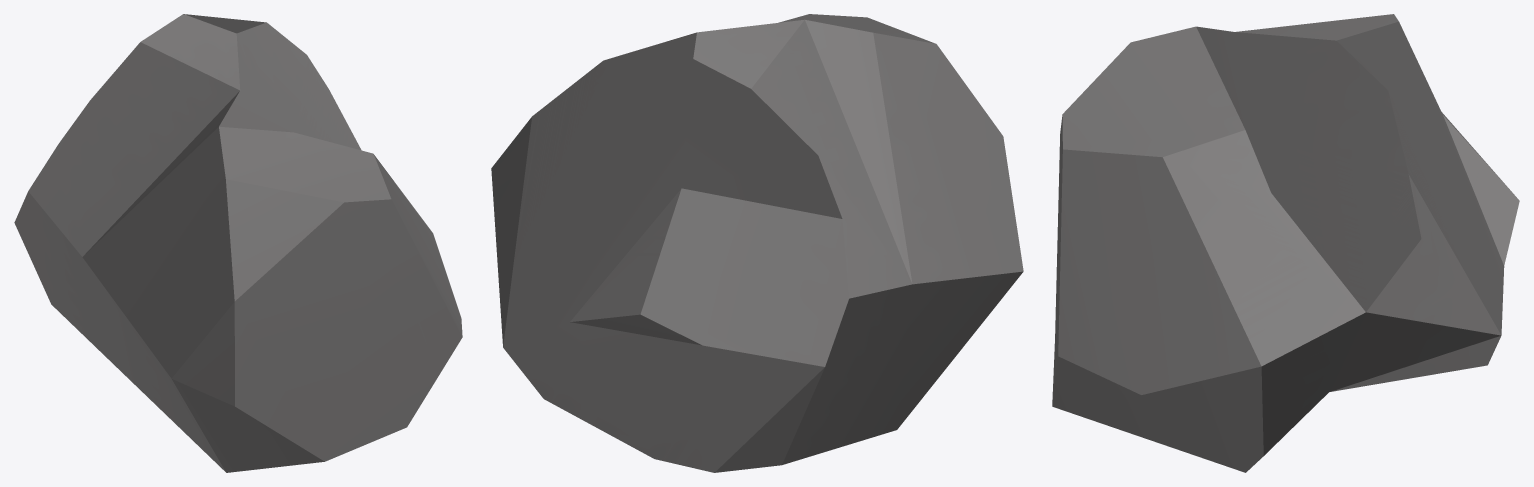
The model's file is rock.glb.
3 renders of one model, left to right at view 1: azimuth 30°, elevation 25°; view 2: azimuth 150°, elevation 25°; view 3: azimuth 270°, elevation 25°, orthographic. The views are drawn at different scales.
Visible parts, largest first — view 1: menhir_mini.014; view 2: menhir_mini.014; view 3: menhir_mini.014.
Boxes of the visible parts, <box> form: menhir_mini.014: <box>14,14,462,472</box>; menhir_mini.014: <box>491,14,1023,472</box>; menhir_mini.014: <box>1052,14,1519,472</box>.
Size of the model in its own units: 3.13 by 3.41 by 3.48.
1 material, 1 textured.
